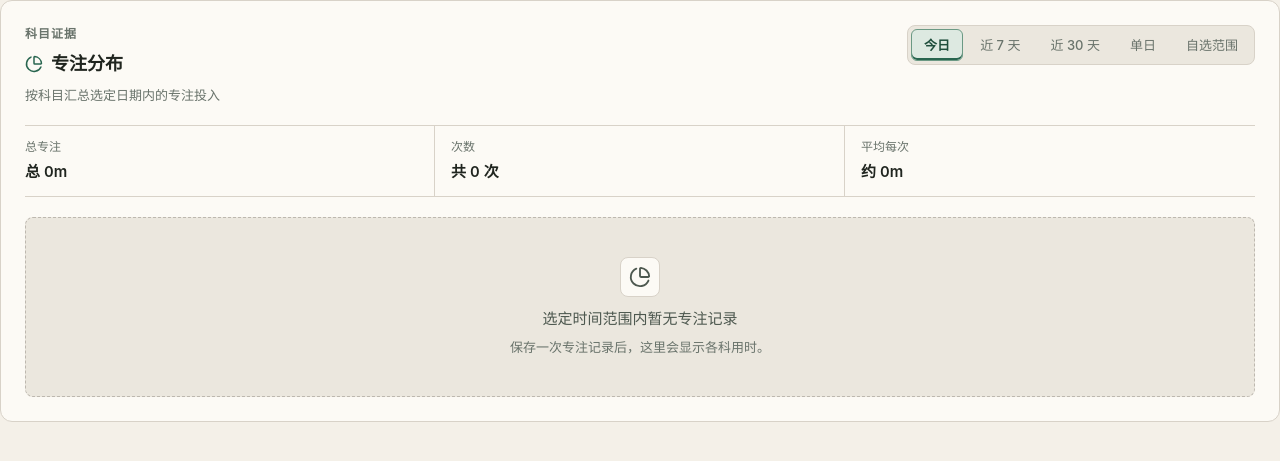
Test: FocusDistributionChart › loads only the selected day in single-day mode
Step 1. Click the button with test id "focus-range-single" → {"x": 1143, "y": 45}, box [1117, 29, 1169, 61]
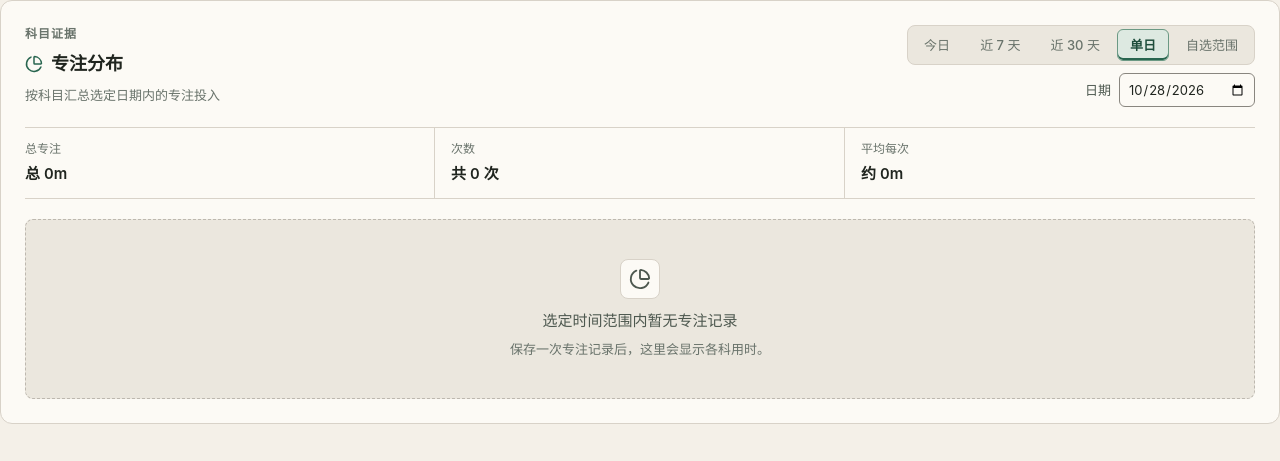
Step 2. Type "2026-05-03" into the date field with test id "focus-single-date" → {"x": 1187, "y": 90}, box [1119, 73, 1255, 107]
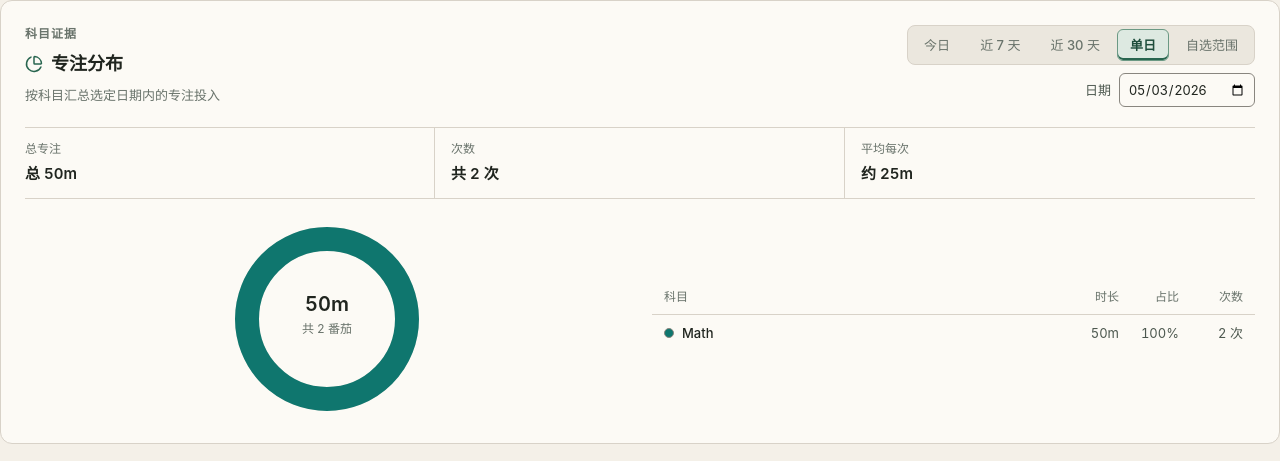
Expected: the text "50m" is shown, [305, 292, 348, 316]
Expected: the element with test id "focus-distribution-chart" is shown, [226, 219, 1255, 419]
